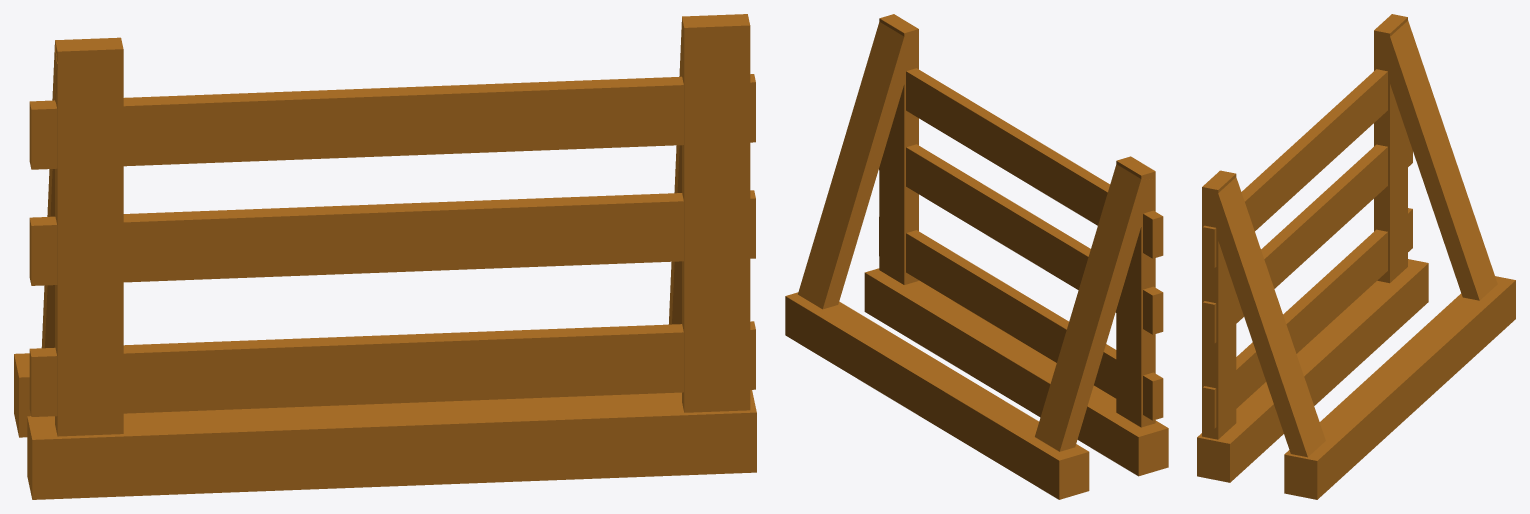
The model's file is shield-stand-by-shantoan-N9mVUcsl4p.glb.
The picture shows the model from 3 angles, left to right: view 1: azimuth 30°, elevation 25°; view 2: azimuth 150°, elevation 25°; view 3: azimuth 270°, elevation 25°; orthographic projection. The views are drawn at different scales.
Parts seen in each view (by area): view 1: Cube_16, Cube_24, Cube_23, Cube_22, Cube_18, Cube_19, Cube_21, Cube_17, Cube_20; view 2: Cube_17, Cube_16, Cube_21, Cube_20, Cube_24, Cube_22, Cube_23, Cube_18, Cube_19; view 3: Cube_17, Cube_16, Cube_20, Cube_21, Cube_24, Cube_23, Cube_22, Cube_18, Cube_19.
Part boxes in pixels (x1,y1,x2,y2): Cube_16: (27, 390, 756, 499); Cube_24: (29, 74, 755, 169); Cube_23: (29, 321, 755, 416); Cube_22: (29, 190, 755, 285); Cube_18: (682, 14, 750, 412); Cube_19: (55, 37, 123, 436); Cube_21: (41, 45, 57, 348); Cube_17: (14, 353, 30, 437); Cube_20: (668, 22, 681, 324); Cube_17: (785, 292, 1089, 499); Cube_16: (864, 268, 1168, 476); Cube_21: (1035, 164, 1154, 451); Cube_20: (798, 22, 915, 309); Cube_24: (906, 68, 1163, 258); Cube_22: (879, 144, 1163, 334); Cube_23: (879, 217, 1163, 420); Cube_18: (879, 14, 918, 284); Cube_19: (1116, 156, 1155, 427); Cube_17: (1284, 276, 1515, 499); Cube_16: (1197, 259, 1428, 482); Cube_20: (1203, 177, 1325, 457); Cube_21: (1390, 20, 1497, 300); Cube_24: (1203, 69, 1387, 268); Cube_23: (1203, 208, 1412, 428); Cube_22: (1203, 137, 1412, 343); Cube_18: (1202, 170, 1236, 439); Cube_19: (1374, 14, 1407, 283).
Size of the model in its own units: 2.35 by 1.55 by 1.55.
